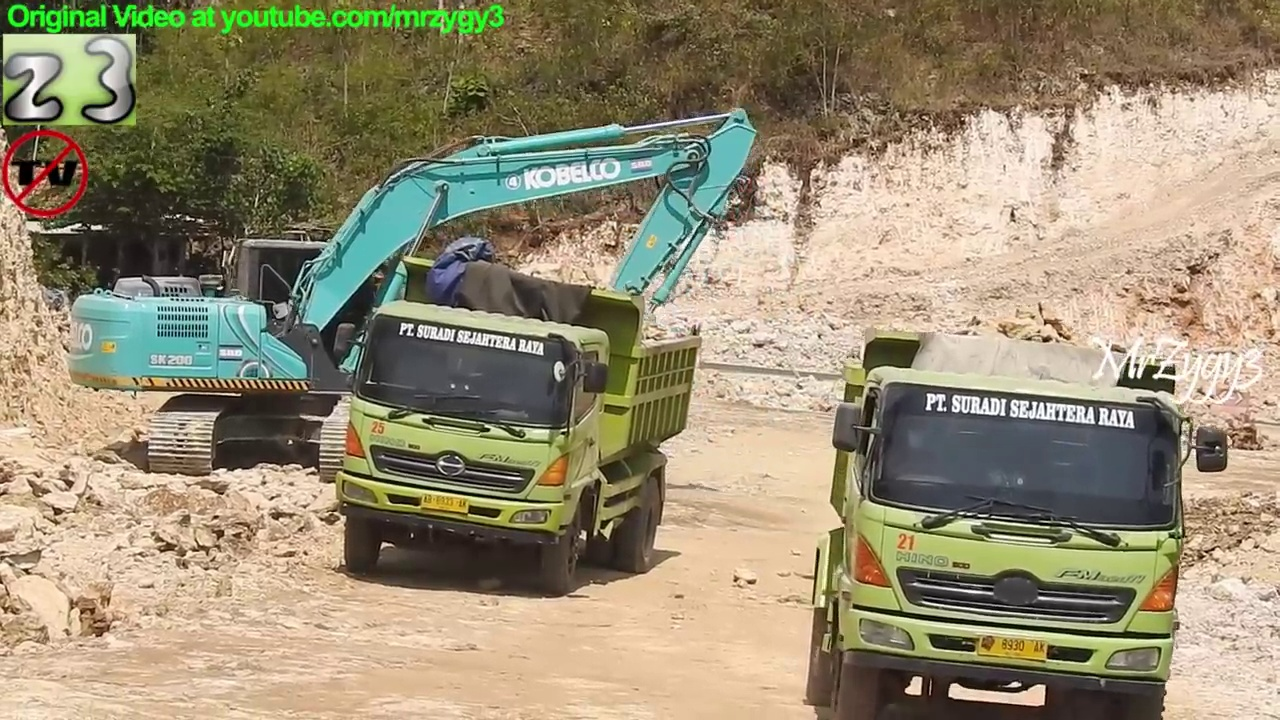excavator: (58, 98, 764, 493)
truck: (800, 323, 1238, 720), (326, 248, 709, 602)
